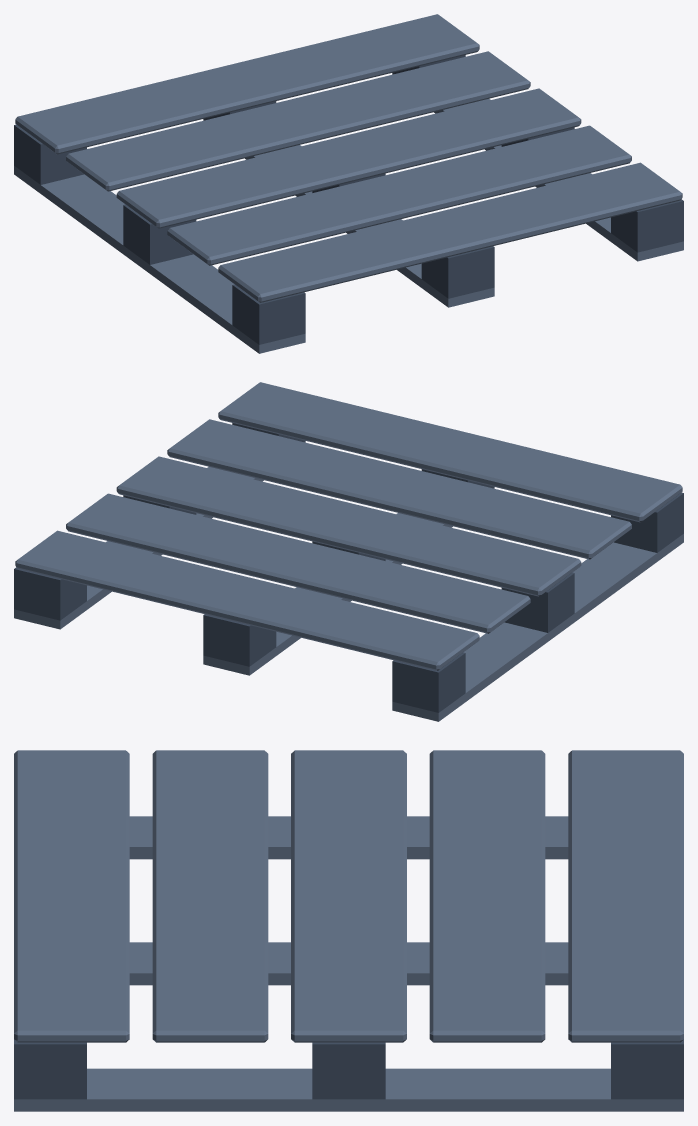
The model's file is pallet_t11.glb.
The picture shows the model from 3 angles, top to bottom: view 1: azimuth 30°, elevation 25°; view 2: azimuth 150°, elevation 25°; view 3: azimuth 270°, elevation 25°; orthographic projection. The views are drawn at different scales.
Visible parts, largest first — view 1: pallet_t11; view 2: pallet_t11; view 3: pallet_t11.
Boxes of the visible parts, bbox=[...] form: pallet_t11: bbox=[14, 14, 683, 353]; pallet_t11: bbox=[14, 382, 683, 721]; pallet_t11: bbox=[14, 750, 683, 1111].
Size of the model in its own units: 1.1 by 0.144 by 1.1.
